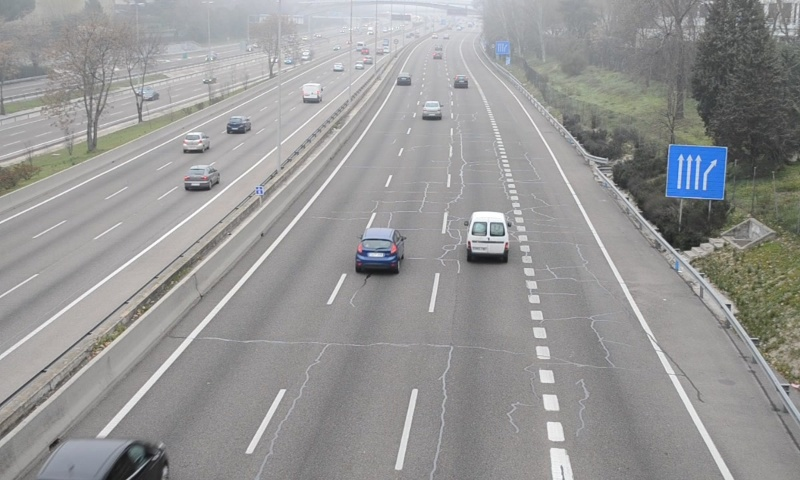car: (356, 228, 404, 269), (422, 101, 442, 119), (396, 70, 412, 86), (453, 74, 468, 88)
van: (466, 211, 508, 262)
